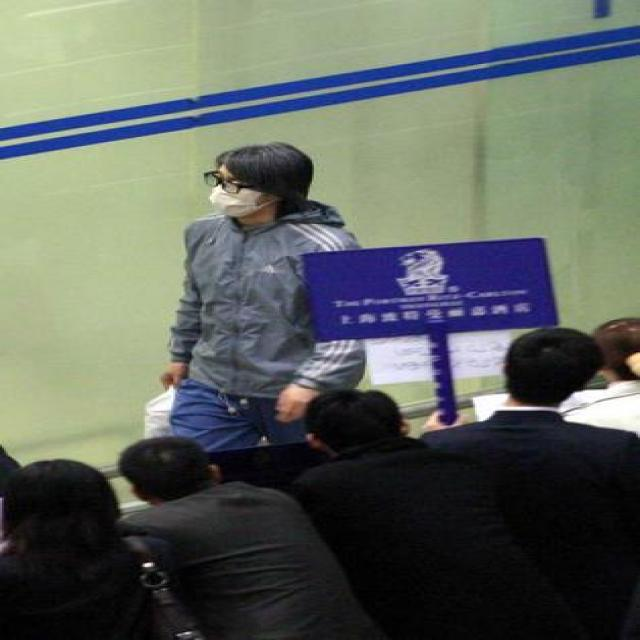mask: (214, 164, 259, 218)
